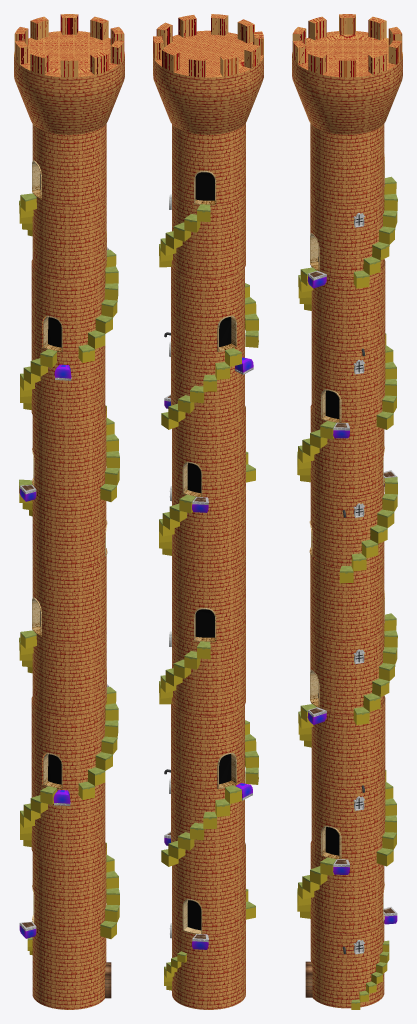
The model's file is tower test4.FBX.
The picture shows the model from 3 angles, left to right: view 1: azimuth 90°, elevation 25°; view 2: azimuth 150°, elevation 25°; view 3: azimuth 270°, elevation 25°; orthographic projection.
Visible parts, largest first — view 1: Cylinder001, Circle009, Circle012, Circle011, Circle014, Circle010, Circle013, Object006, Object013, Object008, Object010, Box157 (+3 smaller); view 2: Cylinder001, Circle009, Circle012, Circle014, Circle011, Circle010, Circle013, Object010, Object008, Object005, Object012, Object006 (+1 smaller); view 3: Cylinder001, Circle010, Circle013, Circle014, Circle011, Circle009, Circle012, Object009, Object011, Object014, Object007, Box083 (+3 smaller).
Boxes of the visible parts, x1=… form: Cylinder001: x1=14, y1=14, x2=124, y2=134; Circle009: x1=32, y1=842, x2=106, y2=1009; Circle012: x1=32, y1=405, x2=106, y2=572; Circle011: x1=32, y1=556, x2=106, y2=716; Circle014: x1=32, y1=124, x2=106, y2=279; Circle010: x1=31, y1=696, x2=105, y2=861; Circle013: x1=31, y1=259, x2=105, y2=424; Object006: x1=43, y1=753, x2=62, y2=789; Object013: x1=43, y1=316, x2=62, y2=352; Object008: x1=32, y1=597, x2=41, y2=636; Object010: x1=32, y1=160, x2=41, y2=199; Box157: x1=87, y1=767, x2=105, y2=785; Cylinder001: x1=153, y1=14, x2=263, y2=134; Circle009: x1=172, y1=843, x2=245, y2=1009; Circle012: x1=172, y1=406, x2=245, y2=572; Circle014: x1=172, y1=123, x2=245, y2=278; Circle011: x1=172, y1=554, x2=245, y2=715; Circle010: x1=171, y1=699, x2=244, y2=864; Circle013: x1=171, y1=262, x2=244, y2=427; Object010: x1=194, y1=170, x2=216, y2=205; Object008: x1=194, y1=608, x2=216, y2=642; Object005: x1=182, y1=899, x2=202, y2=934; Object012: x1=182, y1=462, x2=202, y2=496; Object006: x1=217, y1=753, x2=236, y2=788; Cylinder001: x1=292, y1=14, x2=402, y2=134; Circle010: x1=311, y1=696, x2=385, y2=862; Circle013: x1=311, y1=259, x2=385, y2=426; Circle014: x1=310, y1=123, x2=384, y2=277; Circle011: x1=310, y1=555, x2=384, y2=714; Circle009: x1=310, y1=841, x2=384, y2=1008; Circle012: x1=310, y1=405, x2=384, y2=571; Object009: x1=321, y1=826, x2=341, y2=859; Object011: x1=321, y1=389, x2=341, y2=422; Object014: x1=310, y1=233, x2=319, y2=271; Object007: x1=310, y1=669, x2=319, y2=707; Box083: x1=305, y1=961, x2=312, y2=997.
Bounding box in the file's own units: 120 × 1142 × 120.
17 materials, 11 textured.
